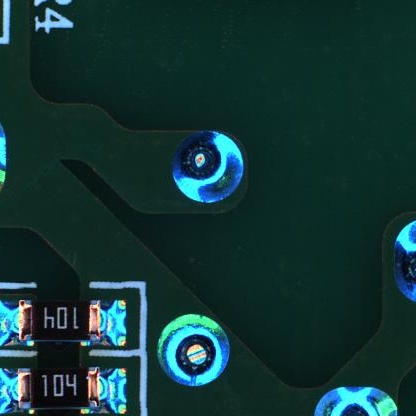spot: (155, 313, 231, 388), (170, 129, 243, 206), (312, 386, 398, 416), (392, 218, 416, 302)
